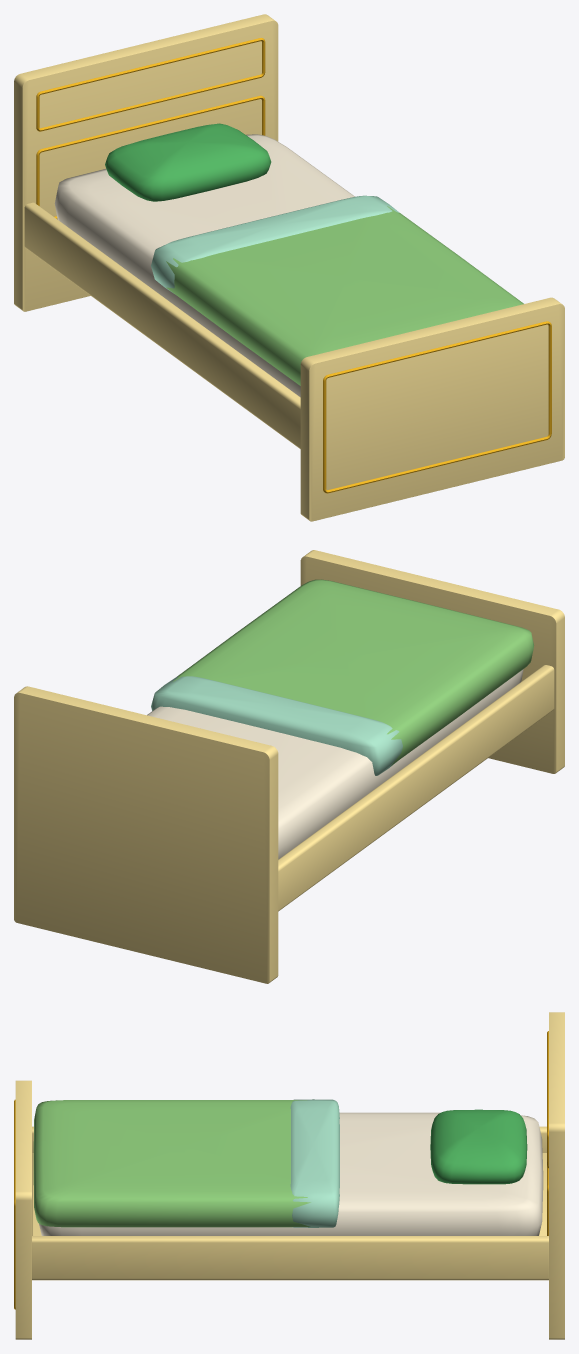
Rendered from cama_solteiro_painel_amarela.glb.
3 renders of one model, top to bottom at view 1: azimuth 30°, elevation 25°; view 2: azimuth 150°, elevation 25°; view 3: azimuth 270°, elevation 25°, orthographic. The views are drawn at different scales.
Visible parts, largest first — view 1: cama_solteiro_painel_amarela; view 2: cama_solteiro_painel_amarela; view 3: cama_solteiro_painel_amarela.
Part boxes in pixels (left/top/right/bottom): cama_solteiro_painel_amarela: left=14, top=14, right=564, bottom=521; cama_solteiro_painel_amarela: left=14, top=550, right=564, bottom=983; cama_solteiro_painel_amarela: left=14, top=1012, right=564, bottom=1339.
Size of the model in its own units: 1.02 by 0.88 by 2.05.
Materials: 1 (1 with a texture image).
